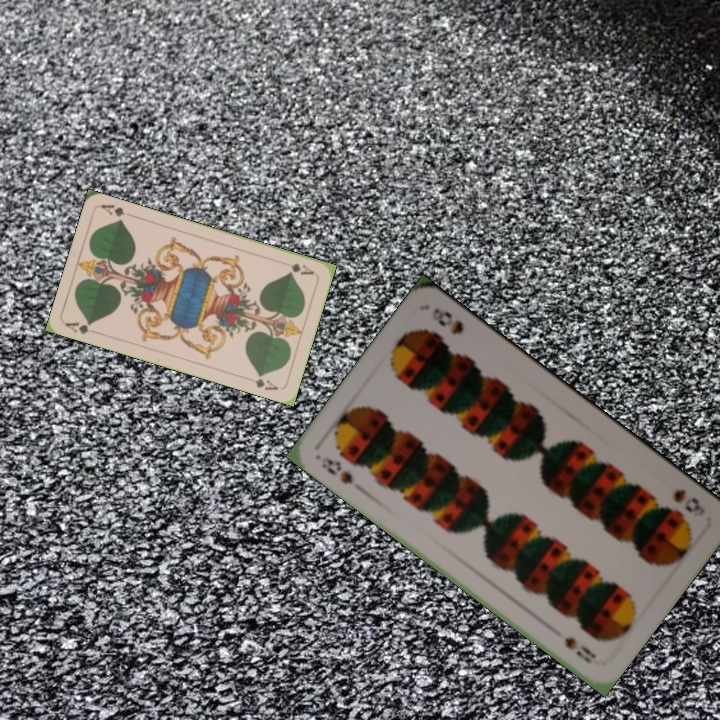GA: (62, 318, 102, 337), (278, 258, 316, 278)
S8: (317, 453, 356, 487), (669, 485, 703, 516)
